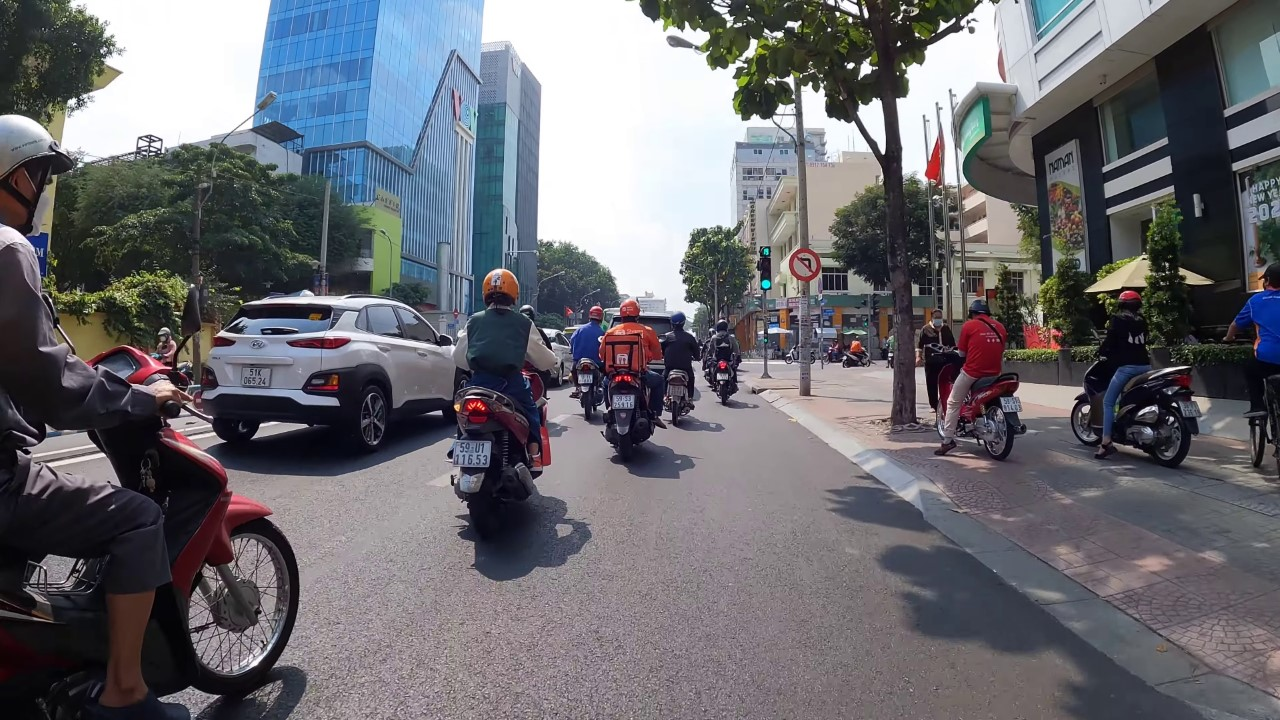cam_re_trai: (785, 245, 823, 283)
